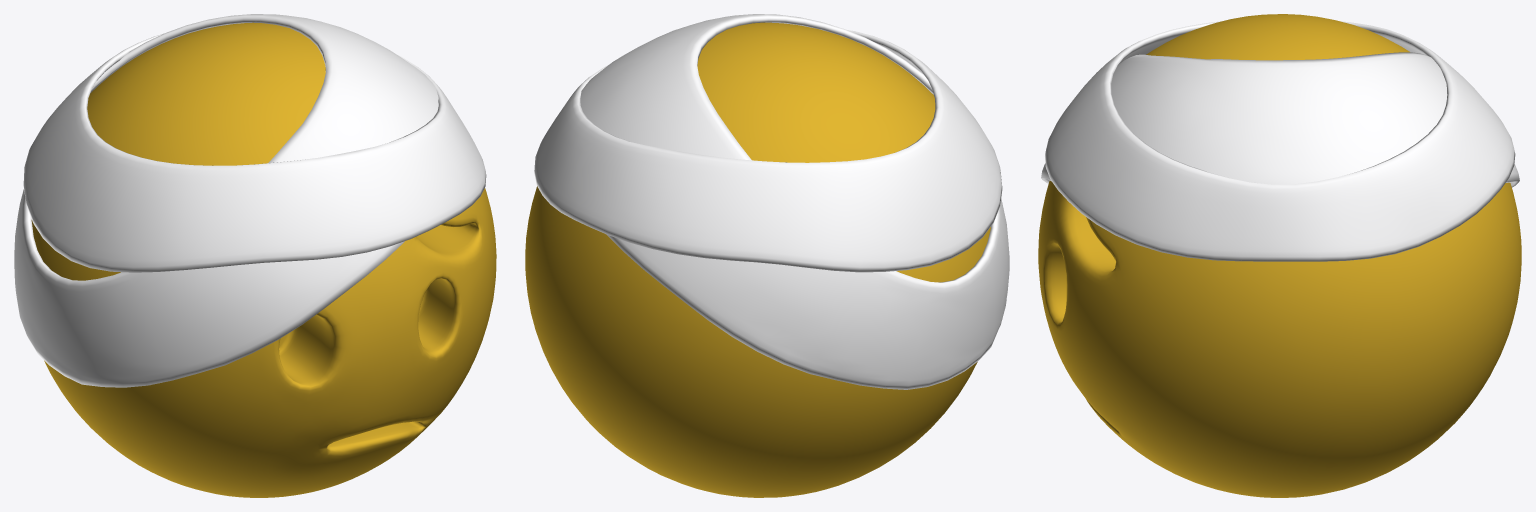
File: bandage.glb
The picture shows the model from 3 angles, left to right: view 1: azimuth 30°, elevation 25°; view 2: azimuth 150°, elevation 25°; view 3: azimuth 270°, elevation 25°; orthographic projection.
Visible parts, largest first — view 1: Group50555, Group15994, Group29873; view 2: Group50555, Group15994, Group29873; view 3: Group50555, Group15994, Group29873.
Part boxes in pixels (bbox=[...]): Group50555: bbox=[31, 22, 496, 497]; Group15994: bbox=[23, 33, 486, 272]; Group29873: bbox=[14, 14, 438, 387]; Group50555: bbox=[525, 22, 990, 497]; Group15994: bbox=[534, 30, 1002, 272]; Group29873: bbox=[580, 14, 1009, 389]; Group50555: bbox=[1038, 14, 1521, 497]; Group15994: bbox=[1045, 21, 1515, 261]; Group29873: bbox=[1041, 52, 1519, 187].
Size of the model in its own units: 0.5729 by 0.5662 by 0.5645.
